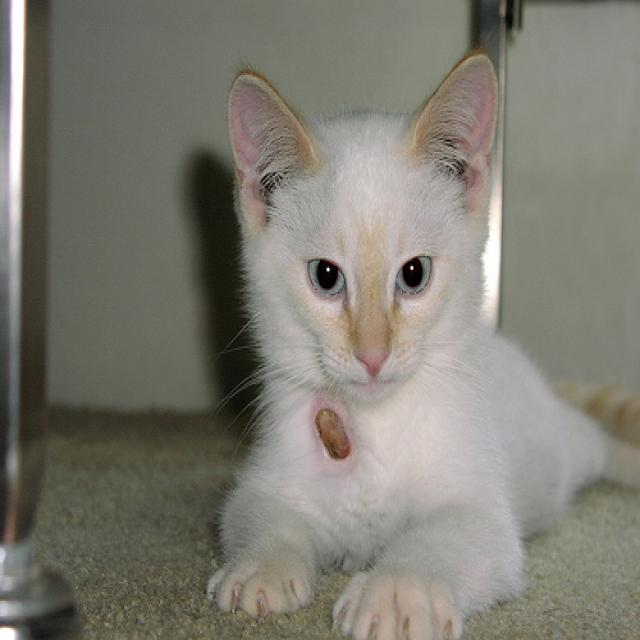cat: (206, 51, 640, 640)
